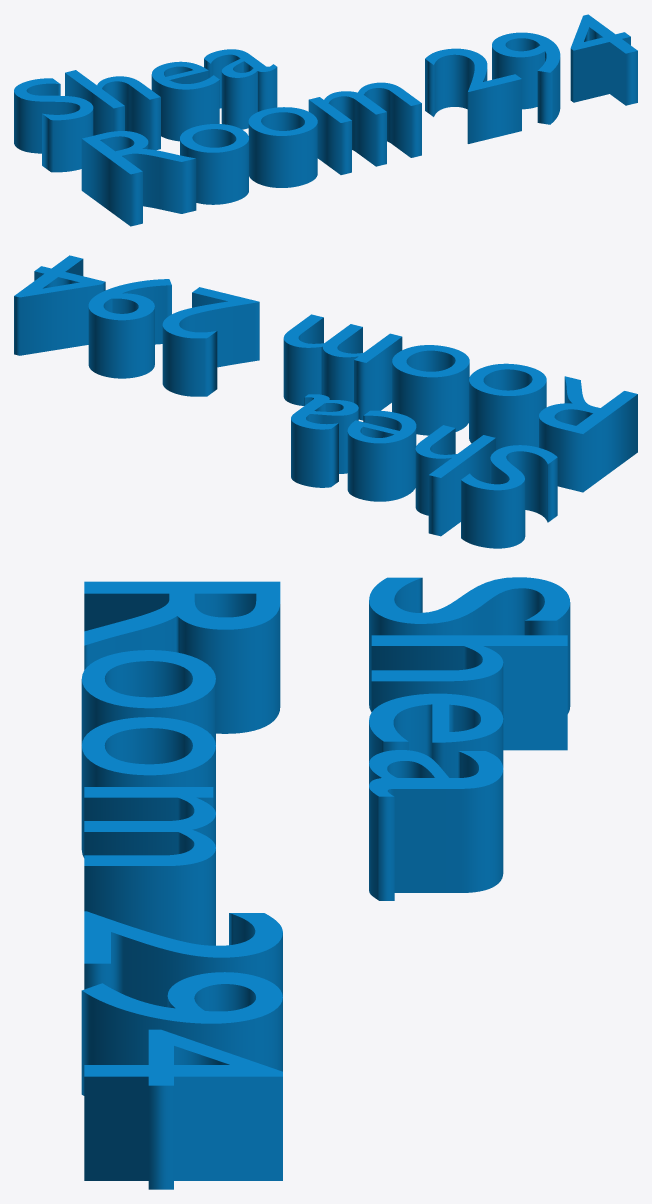
The model's file is shea-294.gltf.
3 renders of one model, top to bottom at view 1: azimuth 30°, elevation 25°; view 2: azimuth 150°, elevation 25°; view 3: azimuth 270°, elevation 25°, orthographic. The views are drawn at different scales.
Parts seen in each view (by area): view 1: Text; view 2: Text; view 3: Text.
Boxes of the visible parts, bbox=[...] form: Text: bbox=[14, 14, 637, 226]; Text: bbox=[14, 255, 637, 548]; Text: bbox=[81, 577, 570, 1189].
Size of the model in its own units: 4.19 by 0.4 by 1.7.
